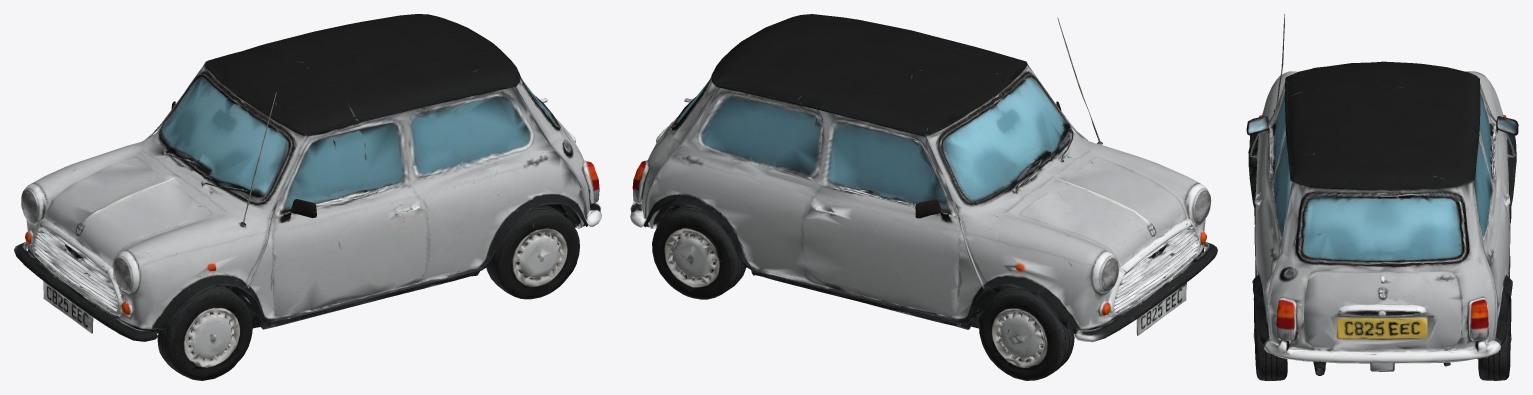
File: min.glb
3 renders of one model, left to right at view 1: azimuth 30°, elevation 25°; view 2: azimuth 150°, elevation 25°; view 3: azimuth 270°, elevation 25°, orthographic. The views are drawn at different scales.
Bounding box in the file's own units: 1.9 × 0.9533 × 0.9498.
Materials: 1 (1 with a texture image).
